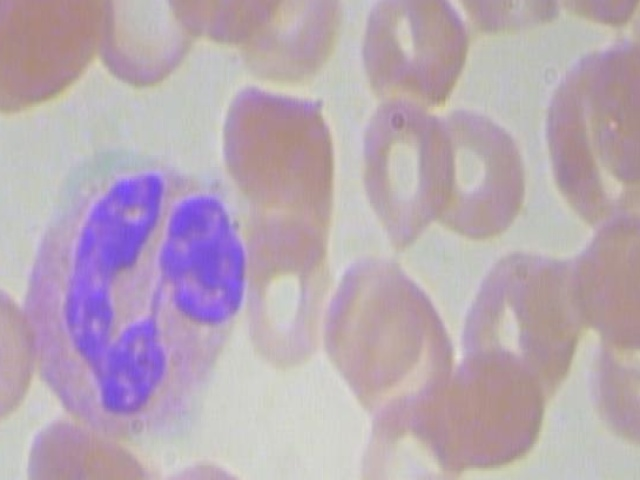RBC: (242, 202, 341, 375), (354, 99, 457, 249), (425, 99, 528, 249), (357, 0, 482, 113), (238, 0, 363, 91), (355, 391, 471, 480), (0, 265, 40, 435), (156, 0, 292, 44), (146, 441, 262, 480)
WBC: (7, 146, 269, 437)
